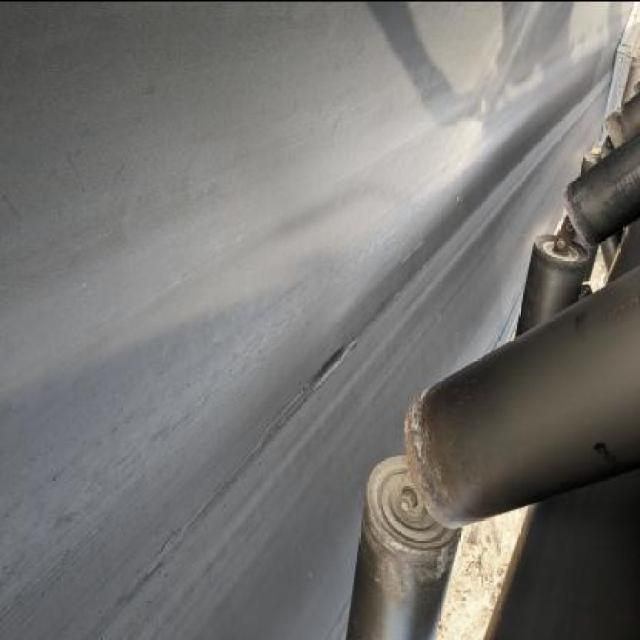Impact Damage: (299, 334, 366, 398)
